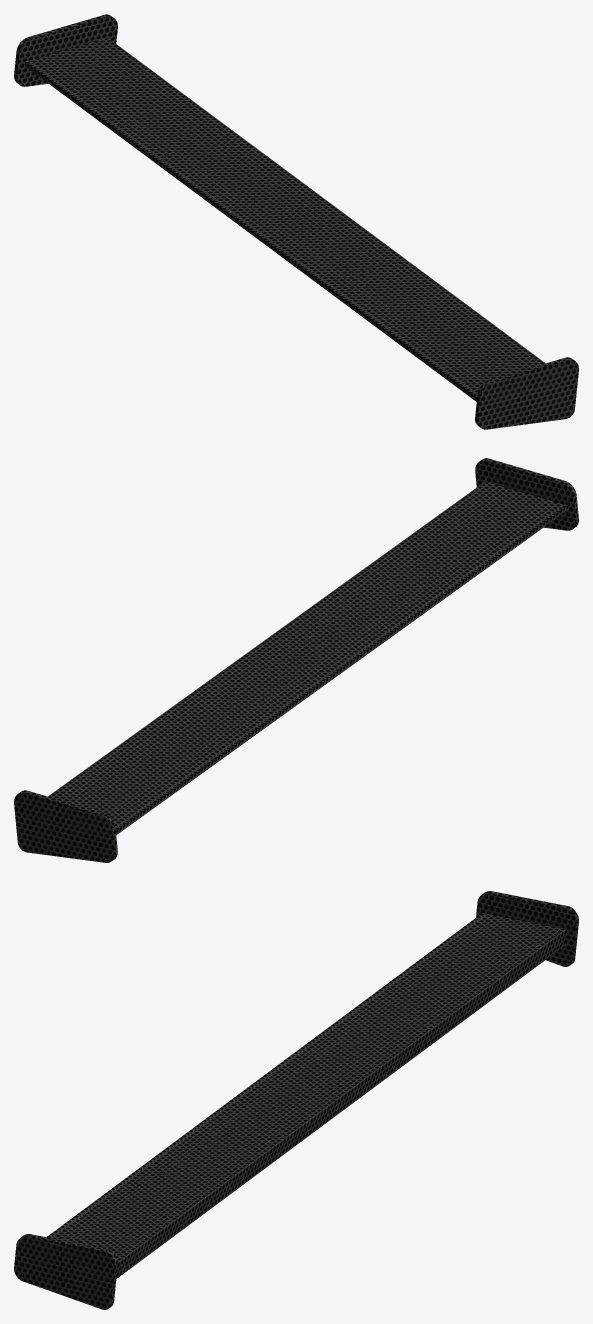
The model's file is car_055.glb.
The picture shows the model from 3 angles, top to bottom: view 1: azimuth 30°, elevation 25°; view 2: azimuth 150°, elevation 25°; view 3: azimuth 330°, elevation 25°; orthographic projection.
Visible parts, largest first — view 1: car.055; view 2: car.055; view 3: car.055.
Boxes of the visible parts, x1=… form: car.055: x1=14, y1=14, x2=578, y2=429; car.055: x1=14, y1=458, x2=578, y2=862; car.055: x1=14, y1=891, x2=578, y2=1309.
Bounding box in the file's own units: 0.8864 × 0.5407 × 7.06.
Materials: 2 (2 with a texture image).
